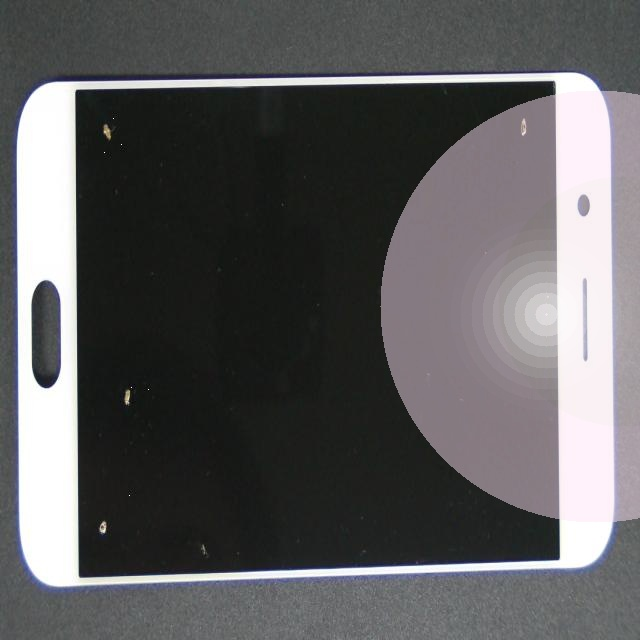stain: (250, 34, 640, 207), (42, 215, 180, 640), (43, 273, 133, 640), (47, 37, 142, 187)
